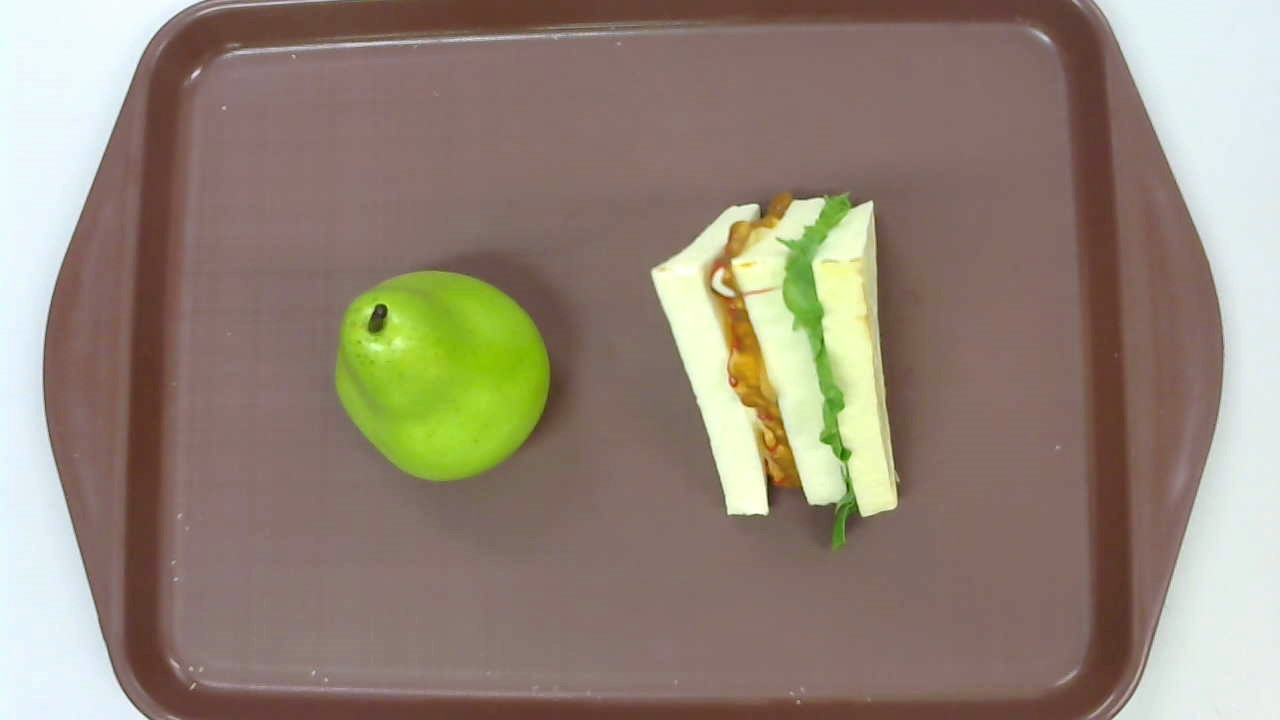green pear: (335, 270, 552, 482)
sandwich: (651, 191, 899, 549)
